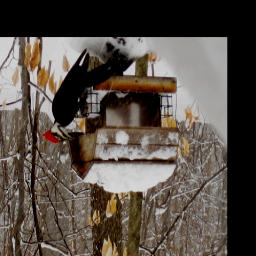Woodpecker: (41, 48, 127, 144)
